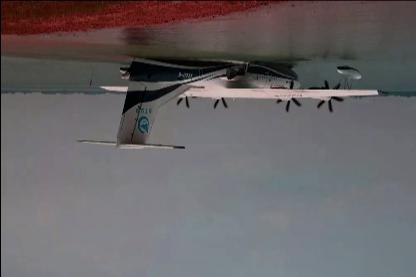AG600: (74, 56, 387, 150)
